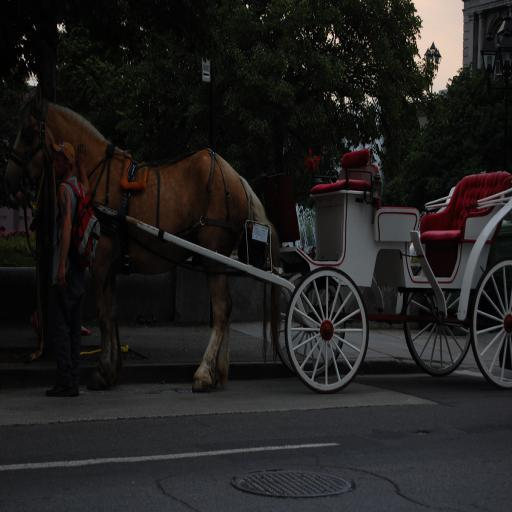horse: (3, 82, 281, 393)
